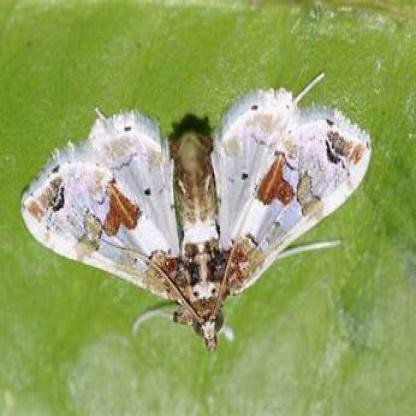leucinodes: (20, 90, 373, 355)
